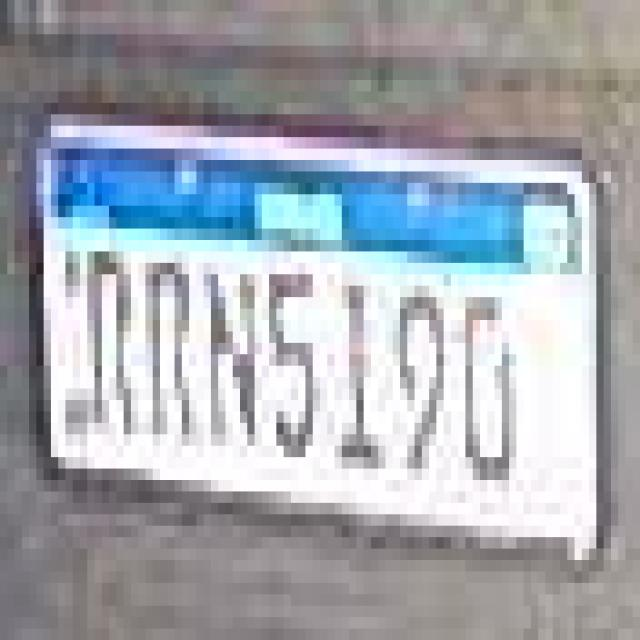0: (457, 275, 528, 515)
5: (263, 245, 327, 486)
9: (393, 275, 448, 486)
I: (335, 259, 387, 481)
N: (201, 253, 265, 467)
R: (135, 235, 202, 464), (80, 238, 135, 443)
